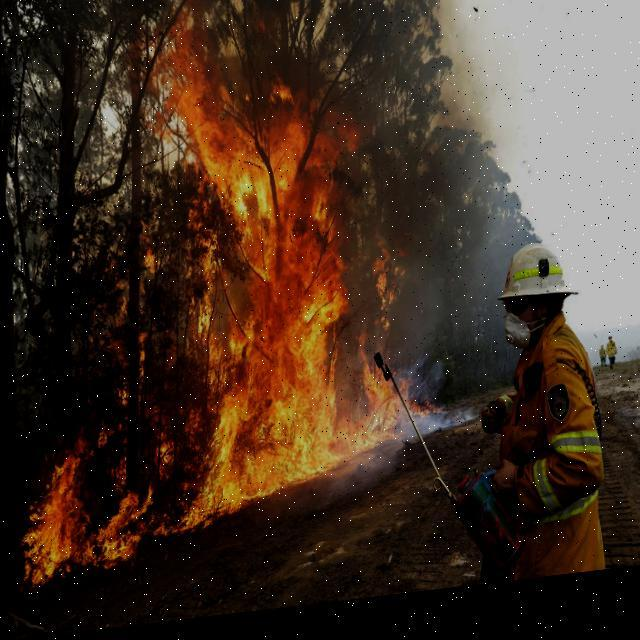Fire: (14, 0, 414, 591)
